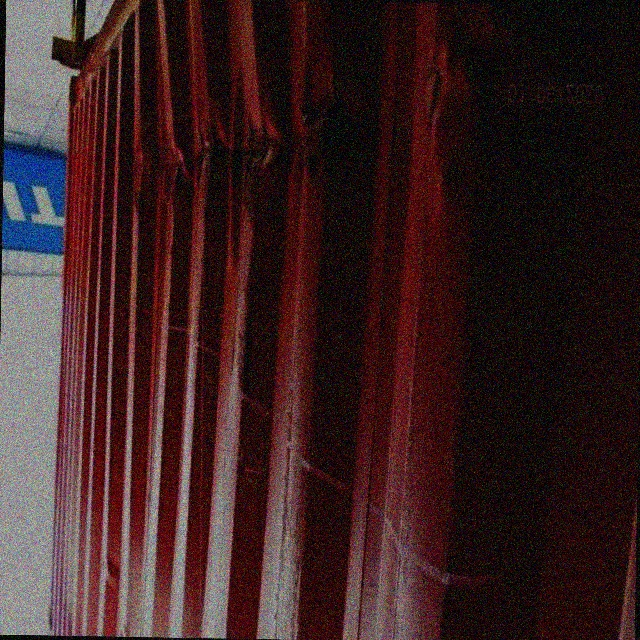Dent: (129, 77, 380, 216)
